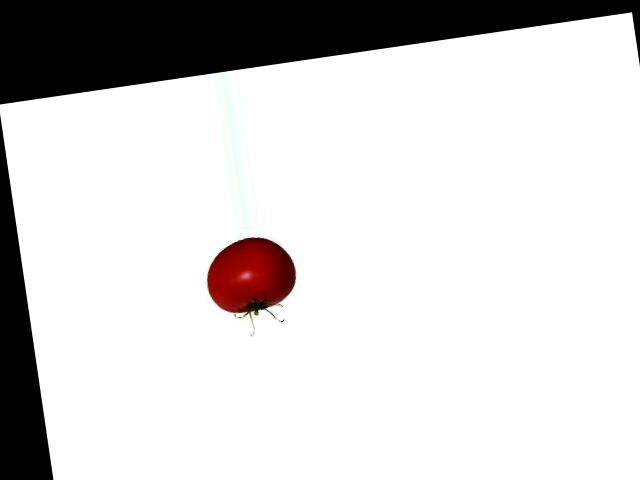tomato: (202, 232, 298, 316)
